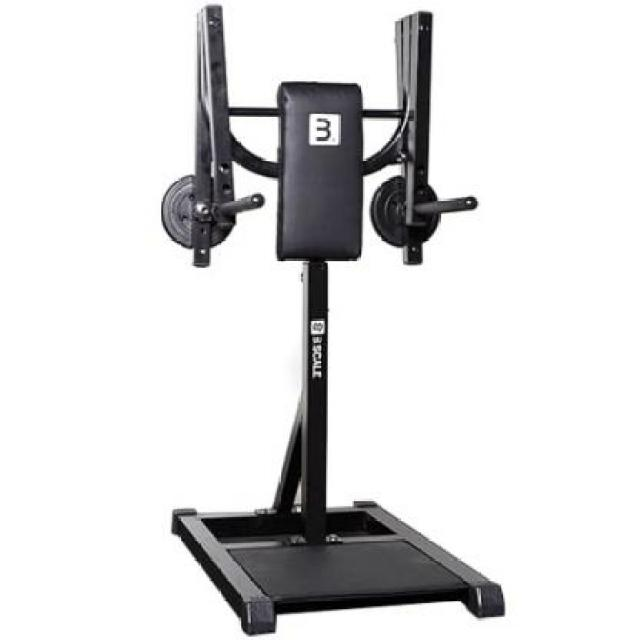lateral raises machine: (160, 7, 508, 636)
